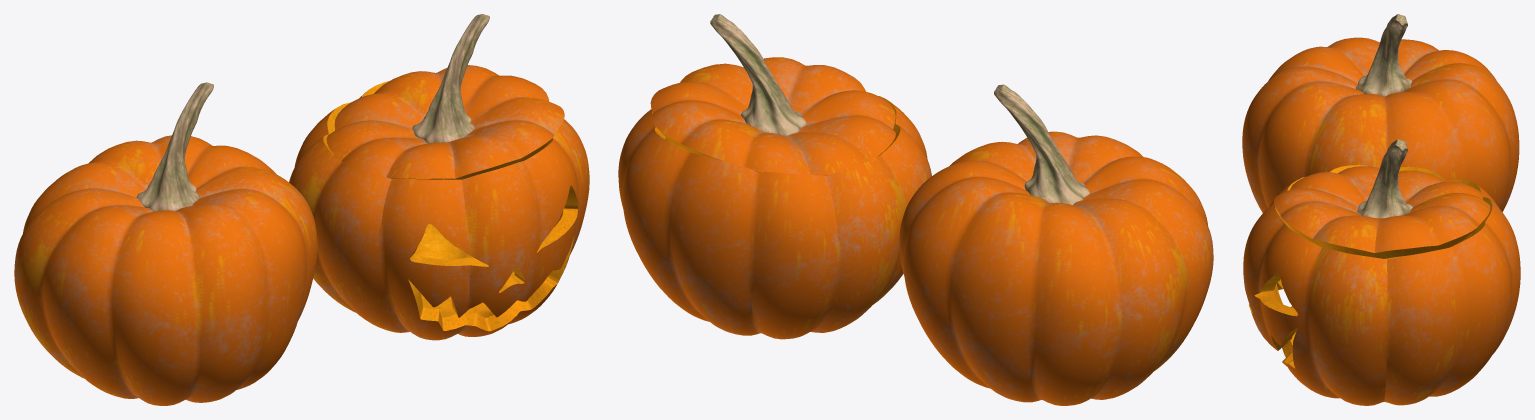
Rendered from pumpkin.obj.
3 views of the same model, side by side, from view 1: azimuth 30°, elevation 25°; view 2: azimuth 150°, elevation 25°; view 3: azimuth 270°, elevation 25° (orthographic). The views are drawn at different scales.
Visible parts, largest first — view 1: Pumpkin_Circle.004, Pumpkin_Face_Circle, cut_Pumpkin_Face_Circle.001, Blan_Circle.002, Blan_Face_Circle.003; view 2: Pumpkin_Circle.004, Pumpkin_Face_Circle, cut_Pumpkin_Face_Circle.001, Blan_Face_Circle.003, Blan_Circle.002; view 3: Pumpkin_Face_Circle, Pumpkin_Circle.004, cut_Pumpkin_Face_Circle.001, Blan_Circle.002, Blan_Face_Circle.003.
Boxes of the visible parts, x1,y1,x2,y2 form: Pumpkin_Circle.004: [14, 135, 317, 405]; Pumpkin_Face_Circle: [289, 81, 589, 340]; cut_Pumpkin_Face_Circle.001: [326, 65, 564, 179]; Blan_Circle.002: [136, 82, 213, 211]; Blan_Face_Circle.003: [412, 14, 489, 143]; Pumpkin_Circle.004: [899, 131, 1213, 405]; Pumpkin_Face_Circle: [618, 96, 931, 339]; cut_Pumpkin_Face_Circle.001: [650, 57, 895, 175]; Blan_Face_Circle.003: [710, 14, 806, 135]; Blan_Circle.002: [994, 84, 1090, 204]; Pumpkin_Face_Circle: [1243, 165, 1520, 405]; Pumpkin_Circle.004: [1242, 37, 1519, 212]; cut_Pumpkin_Face_Circle.001: [1274, 166, 1490, 258]; Blan_Circle.002: [1356, 14, 1412, 96]; Blan_Face_Circle.003: [1357, 139, 1412, 218].
Size of the model in its own units: 1.03 by 0.5175 by 0.4942.
Materials: 4 (4 with a texture image).
